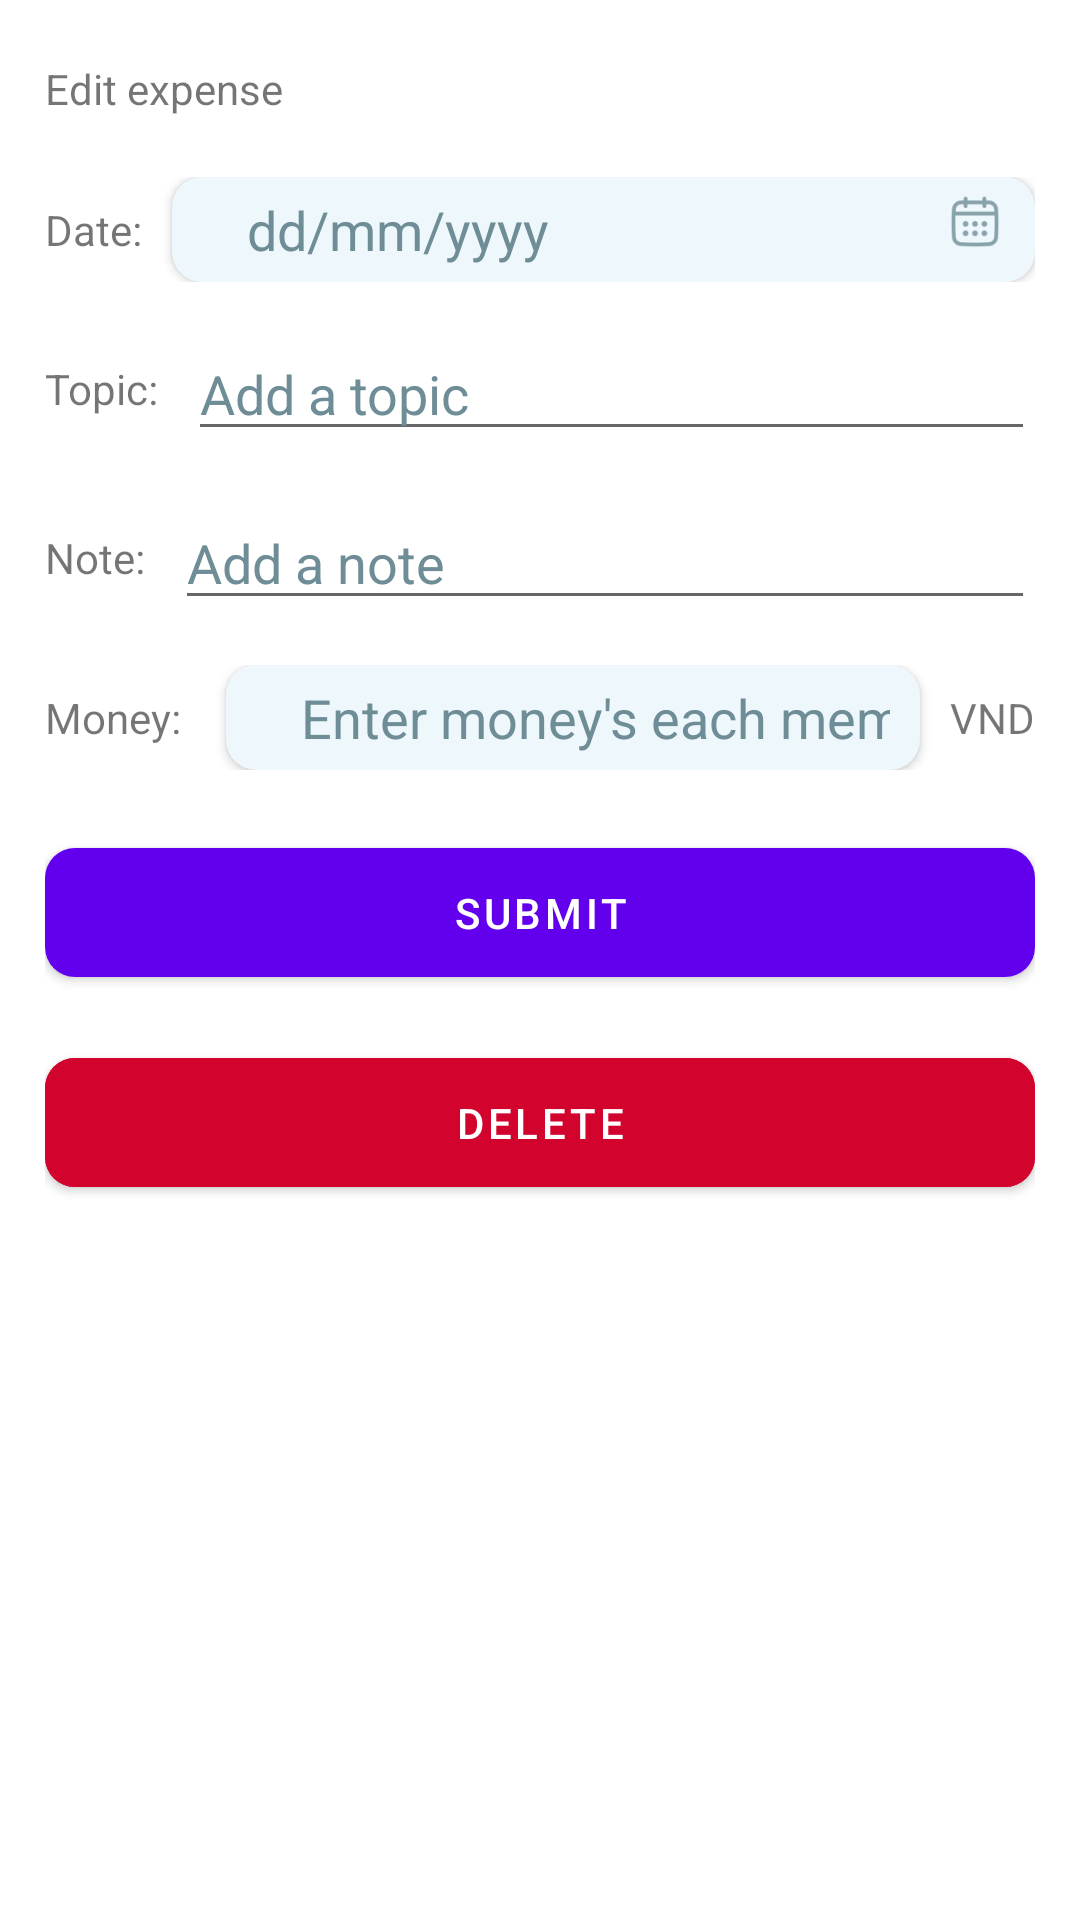

Where to tap for icons on this 1080 x 1920 app screen, as [x,y]:
calendar: [975,221]
